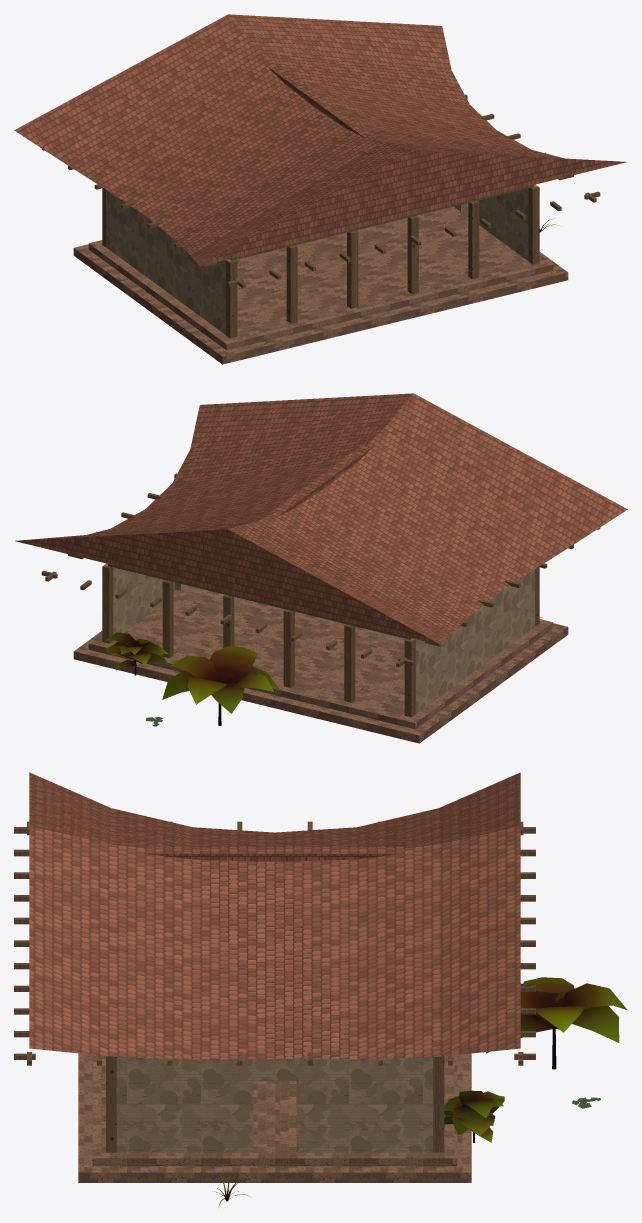
Rendered from dinh_01.glb.
3 renders of one model, top to bottom at view 1: azimuth 30°, elevation 25°; view 2: azimuth 150°, elevation 25°; view 3: azimuth 270°, elevation 25°, orthographic. The views are drawn at different scales.
Visible parts, largest first — view 1: dinh_01; view 2: dinh_01, dinh_01_veg_00_banana_b, dinh_01_veg_01_bush_c; view 3: dinh_01, dinh_01_veg_00_banana_b, dinh_01_veg_01_bush_c.
Boxes of the visible parts, x1,y1,x2,y2 form: dinh_01: (14, 14, 626, 364); dinh_01: (15, 393, 627, 743); dinh_01_veg_00_banana_b: (162, 646, 279, 725); dinh_01_veg_01_bush_c: (104, 632, 168, 675); dinh_01: (14, 772, 535, 1182); dinh_01_veg_00_banana_b: (486, 977, 627, 1069); dinh_01_veg_01_bush_c: (444, 1090, 504, 1142).
Bounding box in the file's own units: 16.12 × 6.59 × 14.94.
Materials: 9 (9 with a texture image).
